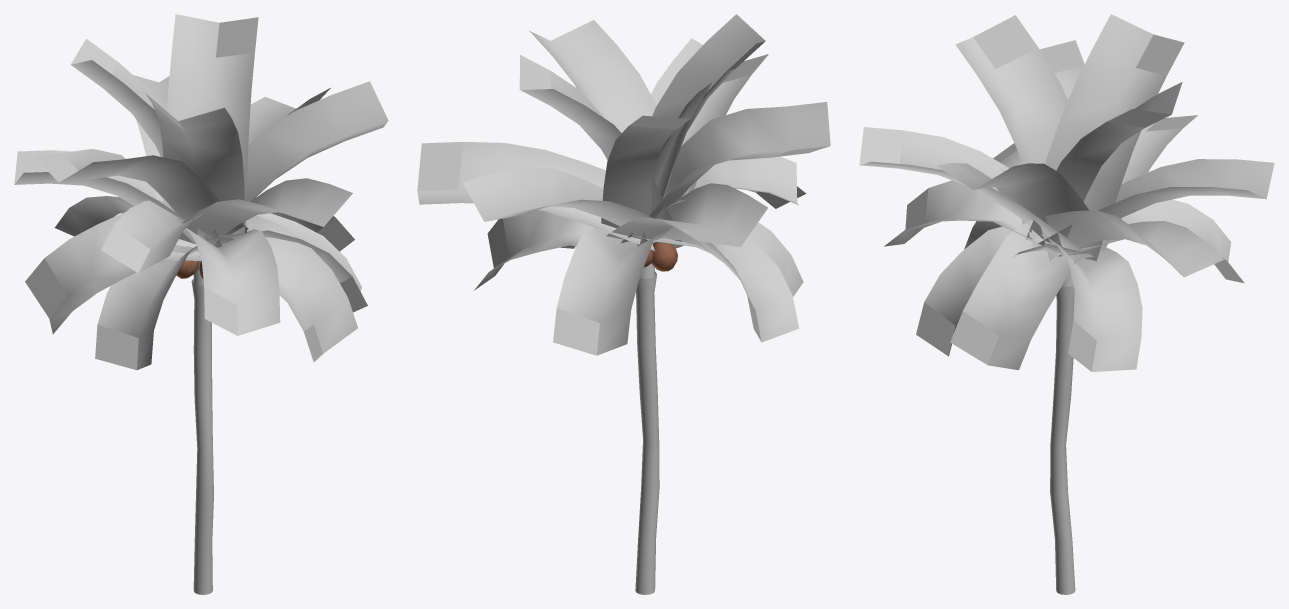
File: Palm_Tree_Tall.fbx
3 views of the same model, side by side, from view 1: azimuth 30°, elevation 25°; view 2: azimuth 150°, elevation 25°; view 3: azimuth 270°, elevation 25° (orthographic). The views are drawn at different scales.
Parts seen in each view (by area): view 1: coconut3; view 2: coconut3; view 3: coconut3.
Boxes of the visible parts, box(x1,y1,x2,y2) form: coconut3: box(14, 14, 388, 594); coconut3: box(417, 14, 830, 594); coconut3: box(859, 14, 1274, 594).
Bounding box in the file's own units: 1627 × 2464 × 1732.
